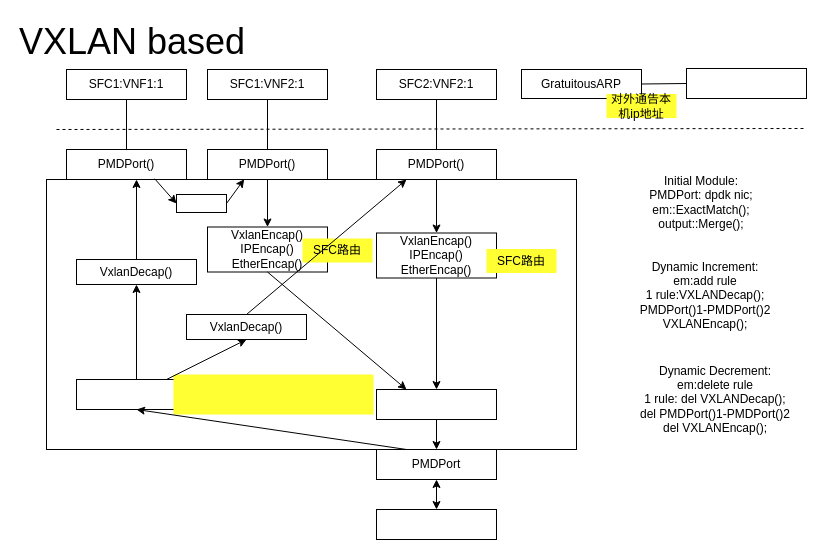
Image size: 825x557. Some labels were removed from this diagram. The shapes that lost their labels are listed below. From the top down, each one's box as (x1, y1, x2, y2) in pixels, then its label:
(686, 68, 806, 98): ens3
(176, 194, 226, 212): forward
(76, 378, 196, 410): ExactMatch()
(173, 374, 373, 414): 利用VXLAN ID来标识不同的SFC ExactMatch()根据vxlan VNI分类
(376, 388, 496, 420): Merge()
(376, 508, 496, 540): NIC
